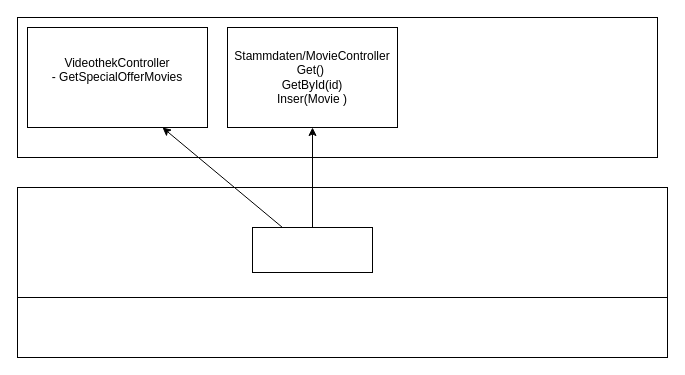
The diagram is 685 pixels wide and 375 high, and some of its shapes have lost their labels. Each missing label, with the centre of its shape:
Generic Repository in a seperate Lib: point 342,327
MovieRepository GetAll / GetById /Insert/Update/Remove: point 312,249
